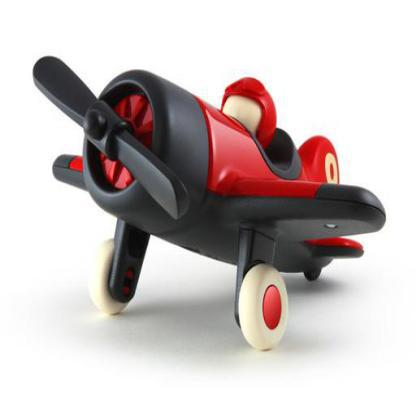CIV_Plane: (27, 27, 387, 354)
